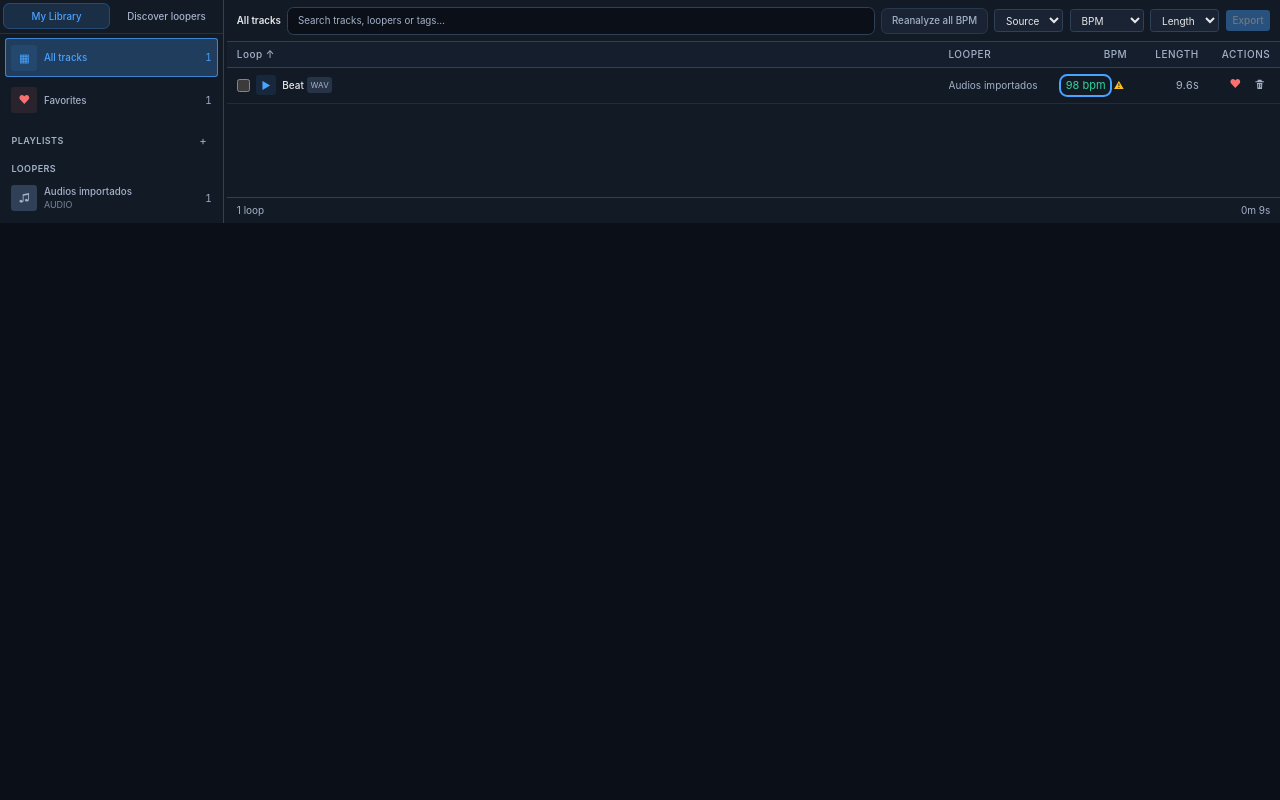
Test: a late preview cannot overwrite a manually entered base
Step 1. Double-click the button with aria-label "Edit BPM for Beat" → (1086, 85), box [1064,79,1107,92]
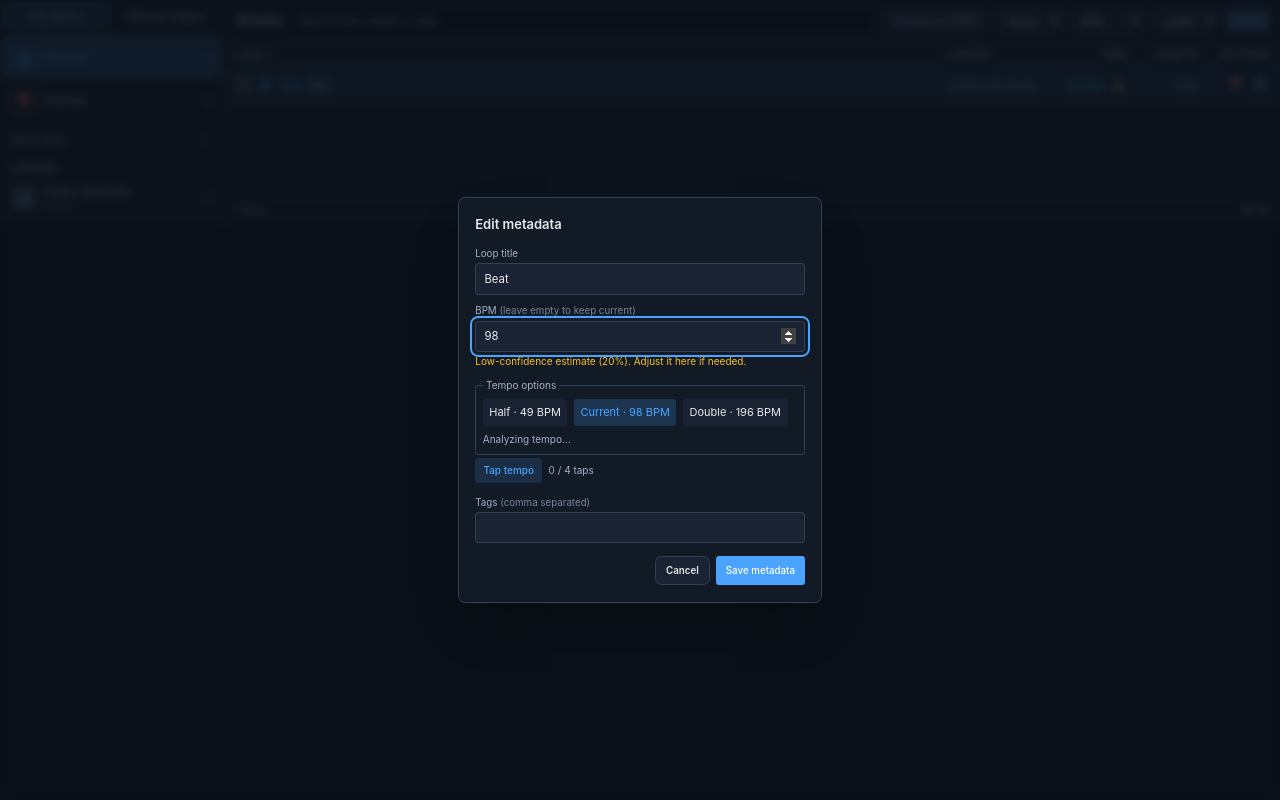
Step 2. Replace the text in the number field labelled "BPM" with "123" → (640, 336), box [475,321,805,352]
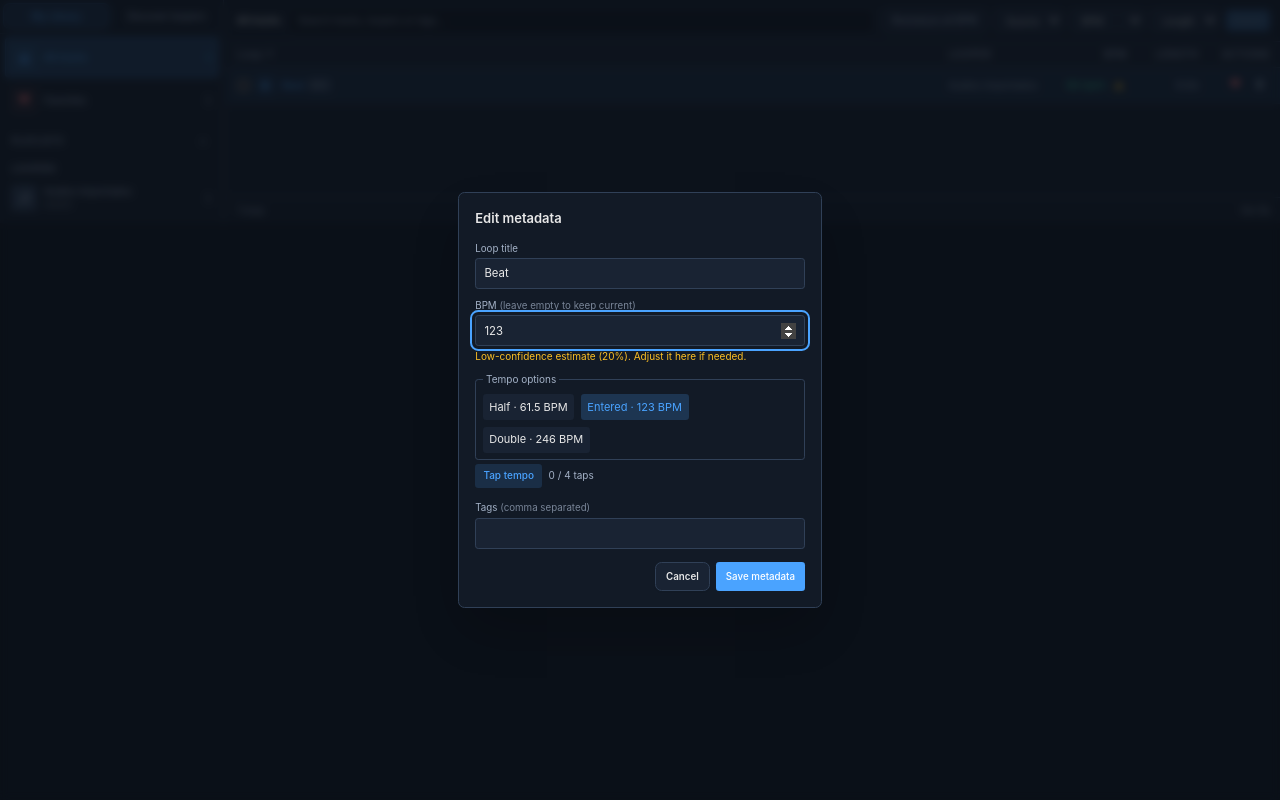
Expected: the button "Entered · 123 BPM" is shown, [581,394,688,420]
